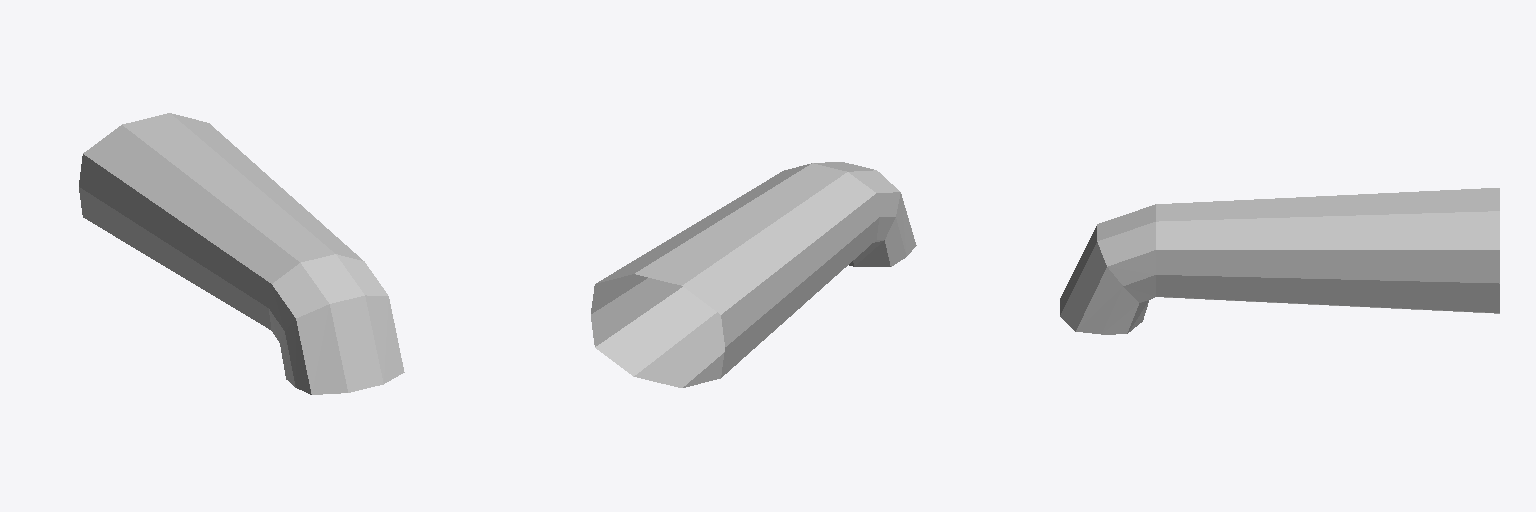
The model's file is bathtub_faucet_2.obj.
3 renders of one model, left to right at view 1: azimuth 30°, elevation 25°; view 2: azimuth 150°, elevation 25°; view 3: azimuth 270°, elevation 25°, orthographic.
Bounding box in the file's own units: 1.23 × 0.9903 × 3.49.